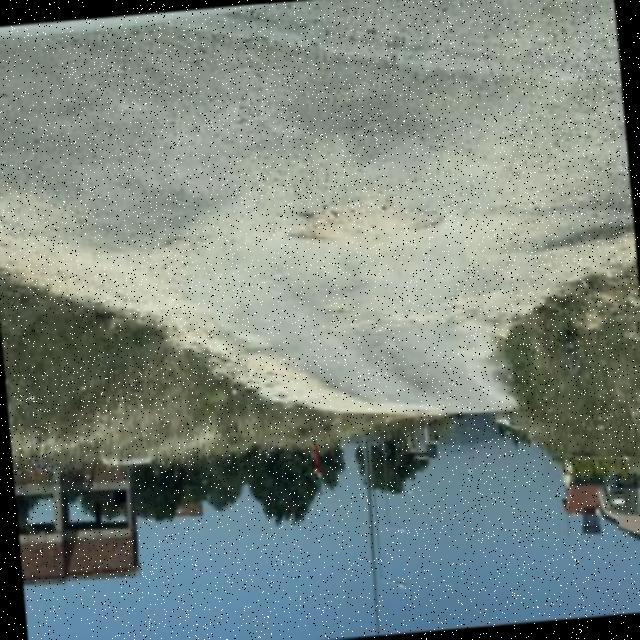Pothole: (291, 194, 445, 243)
